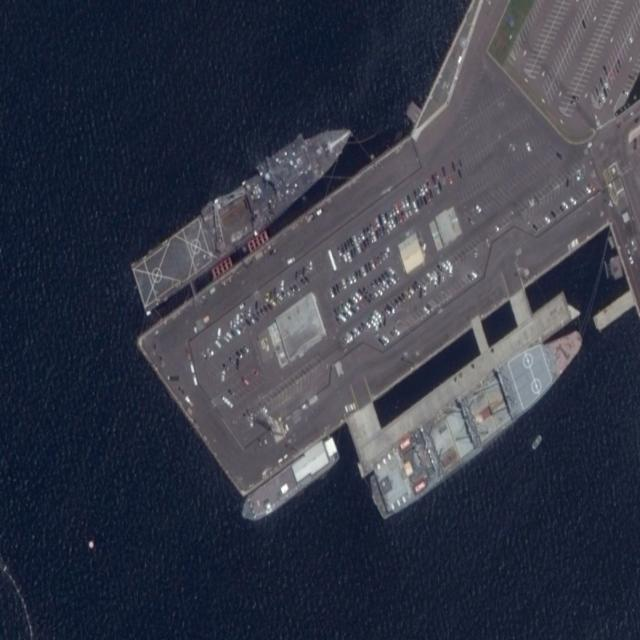Landing: (129, 106, 362, 315)
Other Ship: (363, 307, 593, 528), (237, 431, 341, 533), (530, 433, 544, 453)
